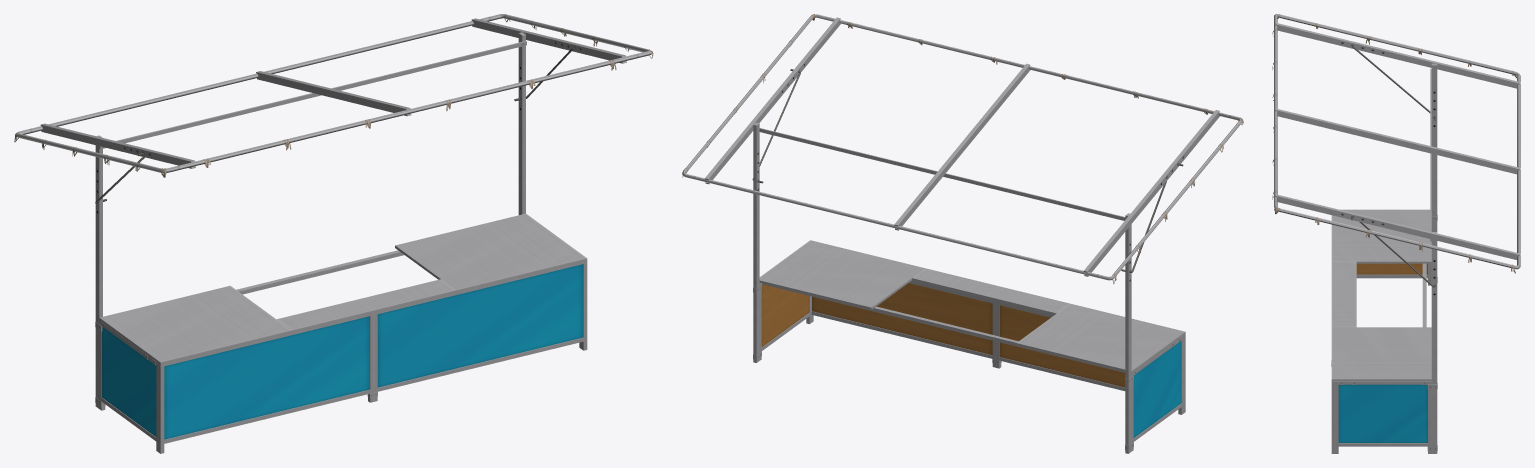
The model's file is jsf_2P_s04_c02_t02.fbx.
The picture shows the model from 3 angles, left to right: view 1: azimuth 30°, elevation 25°; view 2: azimuth 150°, elevation 25°; view 3: azimuth 270°, elevation 25°; orthographic projection. The views are drawn at different scales.
Visible parts, largest first — view 1: Base_s04_c02, Table_2P_s04_t02, Pillar2_s04, Rope_2P_s04; view 2: Base_s04_c02, Table_2P_s04_t02, Pillar2_s04; view 3: Pillar2_s04, Table_2P_s04_t02, Base_s04_c02, Rope_2P_s04.
Boxes of the visible parts, left/top/right/bottom form: Base_s04_c02: left=95, top=258, right=587, bottom=453; Table_2P_s04_t02: left=99, top=213, right=586, bottom=365; Pillar2_s04: left=15, top=14, right=651, bottom=408; Rope_2P_s04: left=14, top=14, right=653, bottom=177; Base_s04_c02: left=753, top=240, right=1185, bottom=451; Table_2P_s04_t02: left=759, top=240, right=1184, bottom=374; Pillar2_s04: left=682, top=14, right=1242, bottom=453; Pillar2_s04: left=1274, top=14, right=1520, bottom=453; Table_2P_s04_t02: left=1332, top=209, right=1431, bottom=384; Base_s04_c02: left=1331, top=215, right=1437, bottom=453; Rope_2P_s04: left=1272, top=14, right=1516, bottom=273.
Size of the model in its own units: 395 by 244 by 211.
